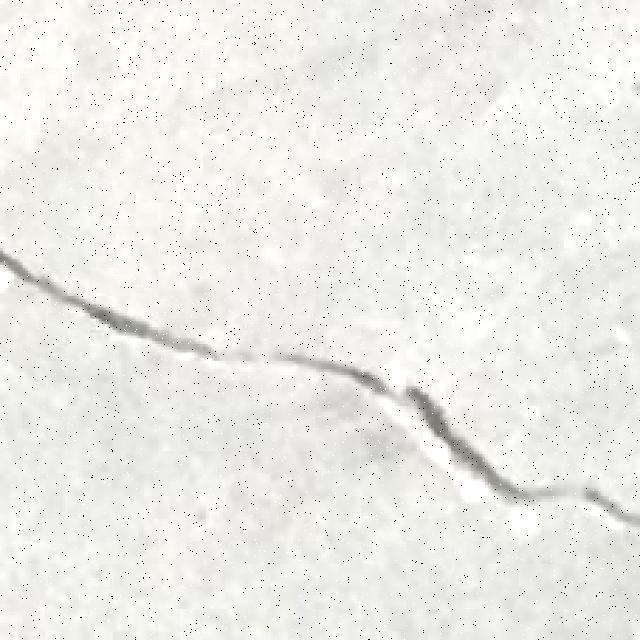crack: (1, 248, 638, 527)
